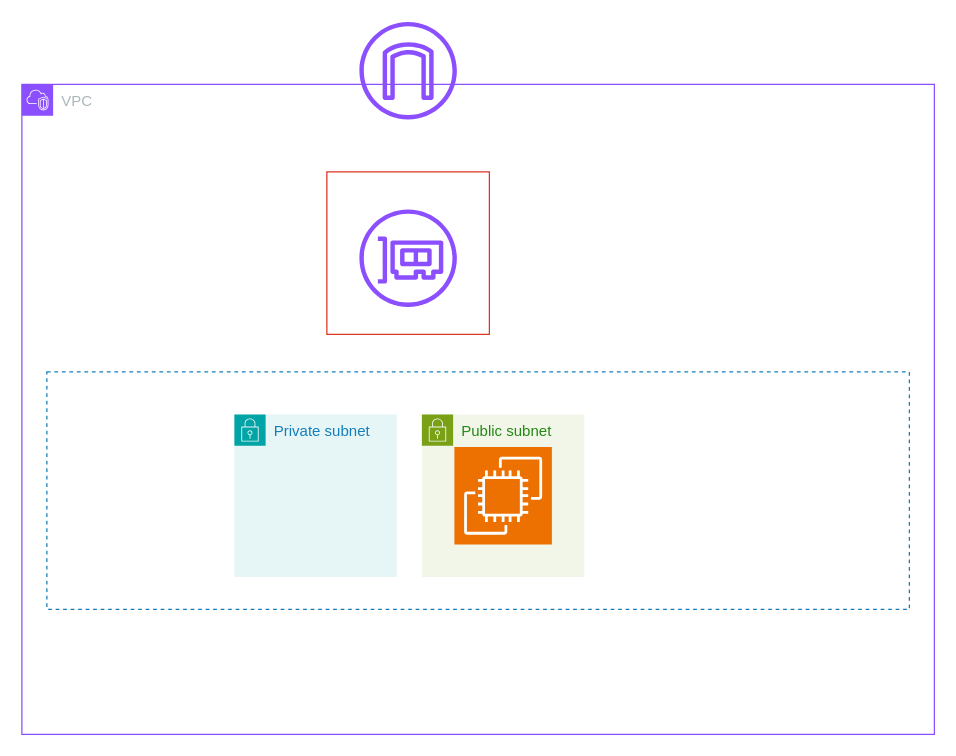
The diagram is 956 pixels wide and 756 high, and some of its shapes have lost their labels. The shapes that lost their labels are listed below. From the top down, each one's box as (x1, y1, x2, y2) in pixels, then its label:
(326, 171, 489, 334): Security group
(46, 371, 909, 609): Availability Zone
